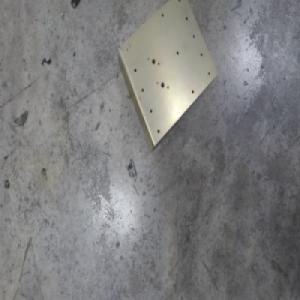MetalSheet: (116, 0, 217, 155)
